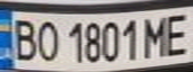0: (100, 18, 121, 62)
1: (118, 16, 142, 61), (63, 18, 84, 63)
8: (81, 18, 103, 63)
B: (6, 15, 42, 62)
E: (160, 9, 193, 56)
M: (139, 11, 172, 58)
O: (33, 17, 60, 63)
